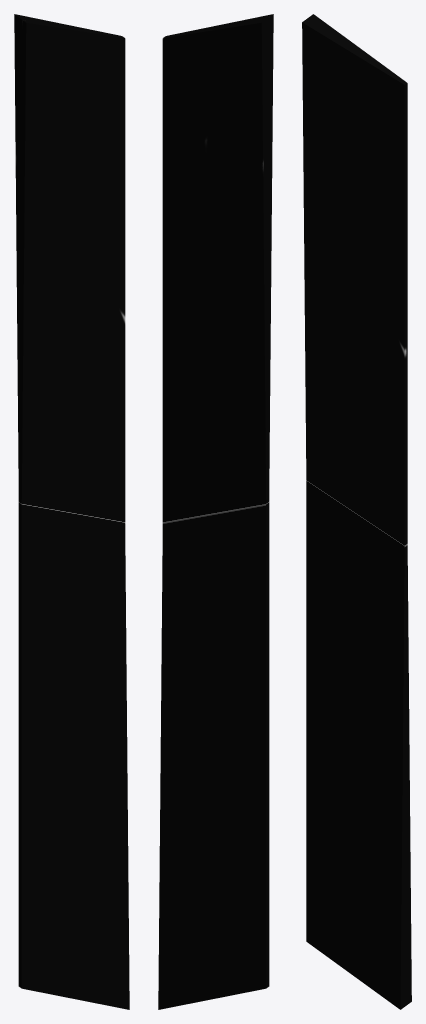
Rendered from propeller.obj.
3 renders of one model, left to right at view 1: azimuth 30°, elevation 25°; view 2: azimuth 150°, elevation 25°; view 3: azimuth 330°, elevation 25°, orthographic. The views are drawn at different scales.
Parts seen in each view (by area): view 1: propeller; view 2: propeller; view 3: propeller.
Part boxes in pixels (x1=…): propeller: x1=14, y1=14, x2=129, y2=1009; propeller: x1=158, y1=14, x2=273, y2=1009; propeller: x1=302, y1=14, x2=411, y2=1009.
Size of the model in its own units: 0.3 by 2.81 by 0.06.
Materials: 1 (1 with a texture image).
